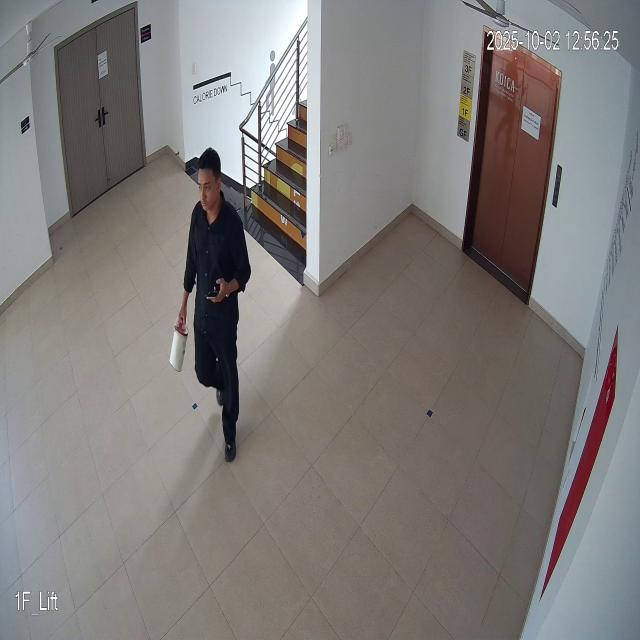face: (193, 144, 226, 220)
